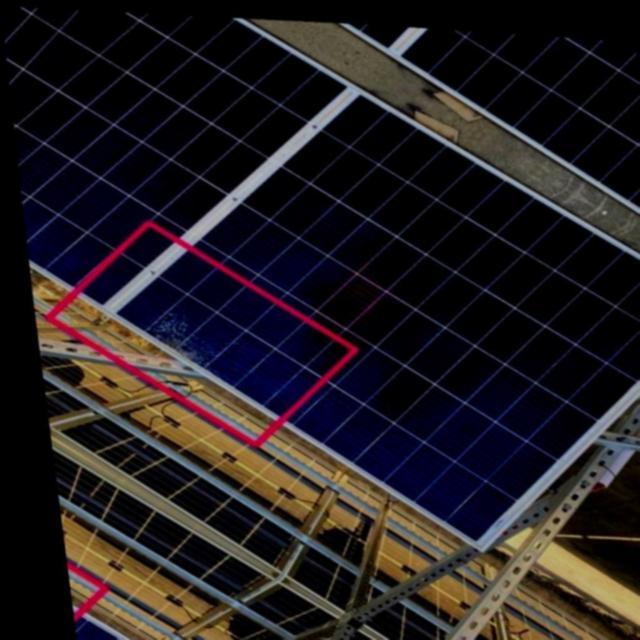cracked: (136, 298, 234, 378)
